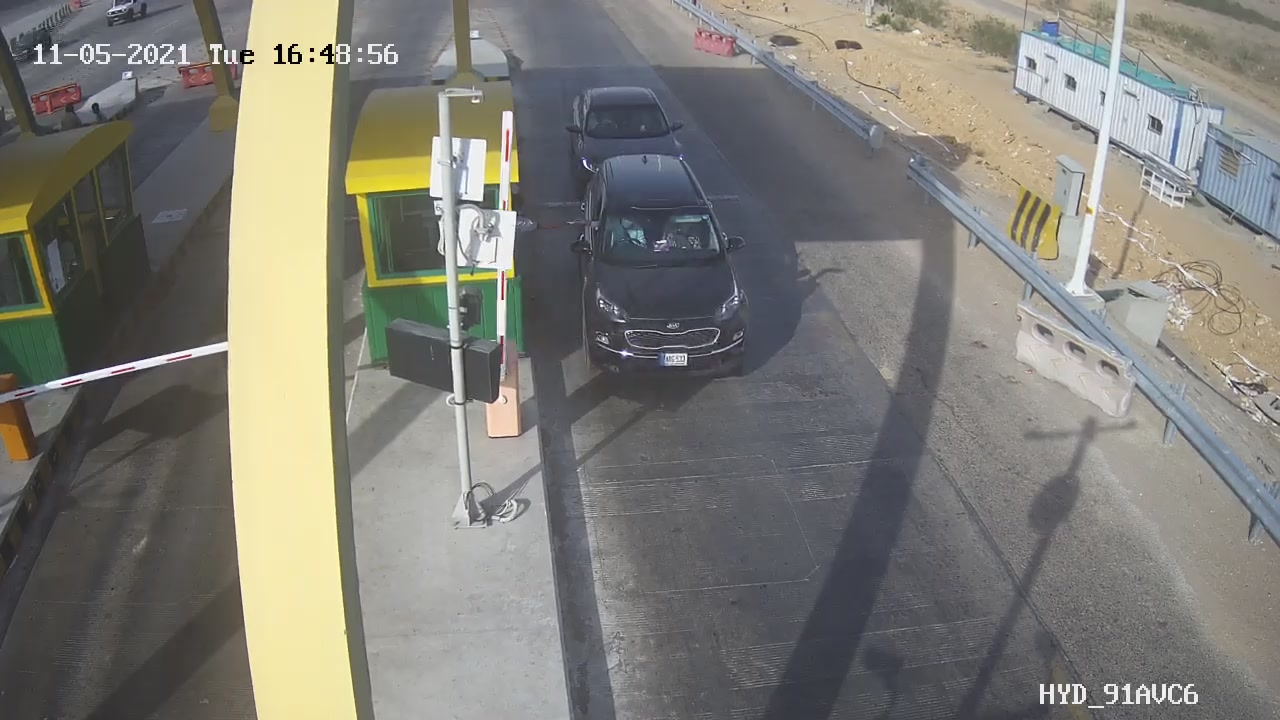F1: (552, 138, 772, 390)
